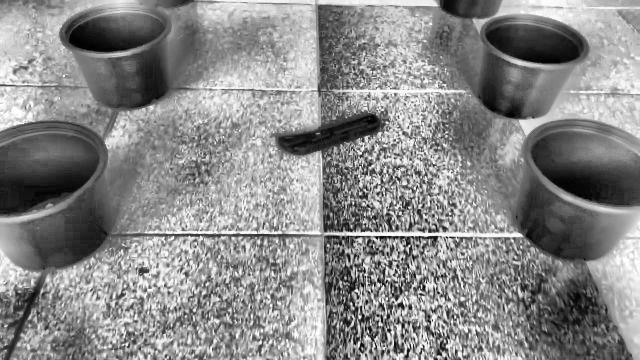pot: (513, 119, 640, 262), (0, 121, 113, 272), (59, 4, 172, 112), (476, 15, 590, 120)
